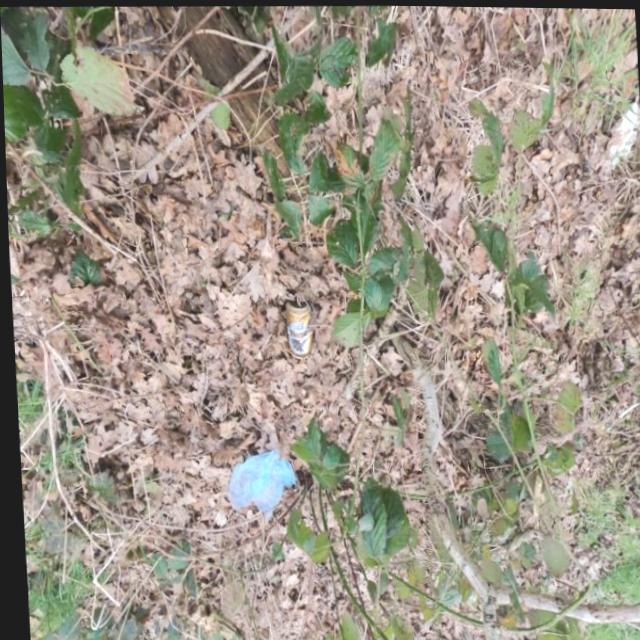Can-Metal: (280, 295, 313, 359), (634, 466, 640, 492)
Paper: (604, 91, 640, 170)
